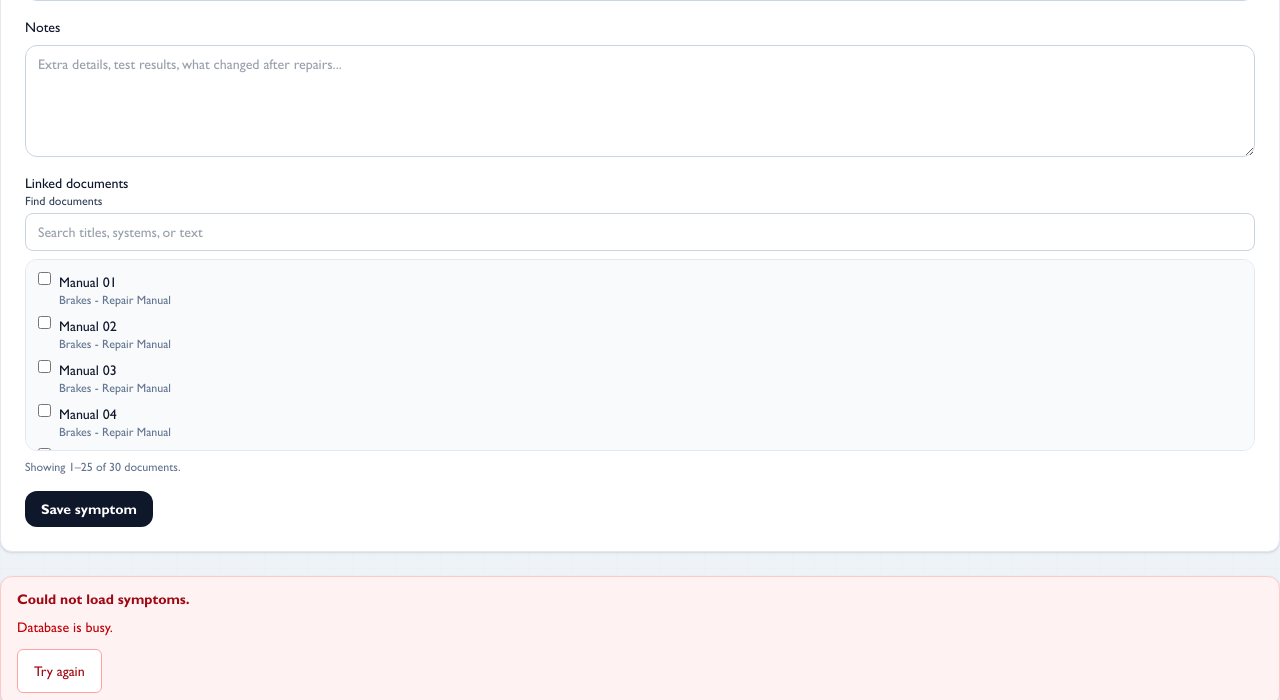
a failed first load says so and Try again recovers
The image size is (1280, 700).
(page scrolled)
Expected: the text "Could not load symptoms." is shown, 17,591 -> 190,607
Expected: the text "Database is busy. Try again" is shown, 17,619 -> 113,693
Click the button "Try again": (59, 671) 17,649 -> 102,693
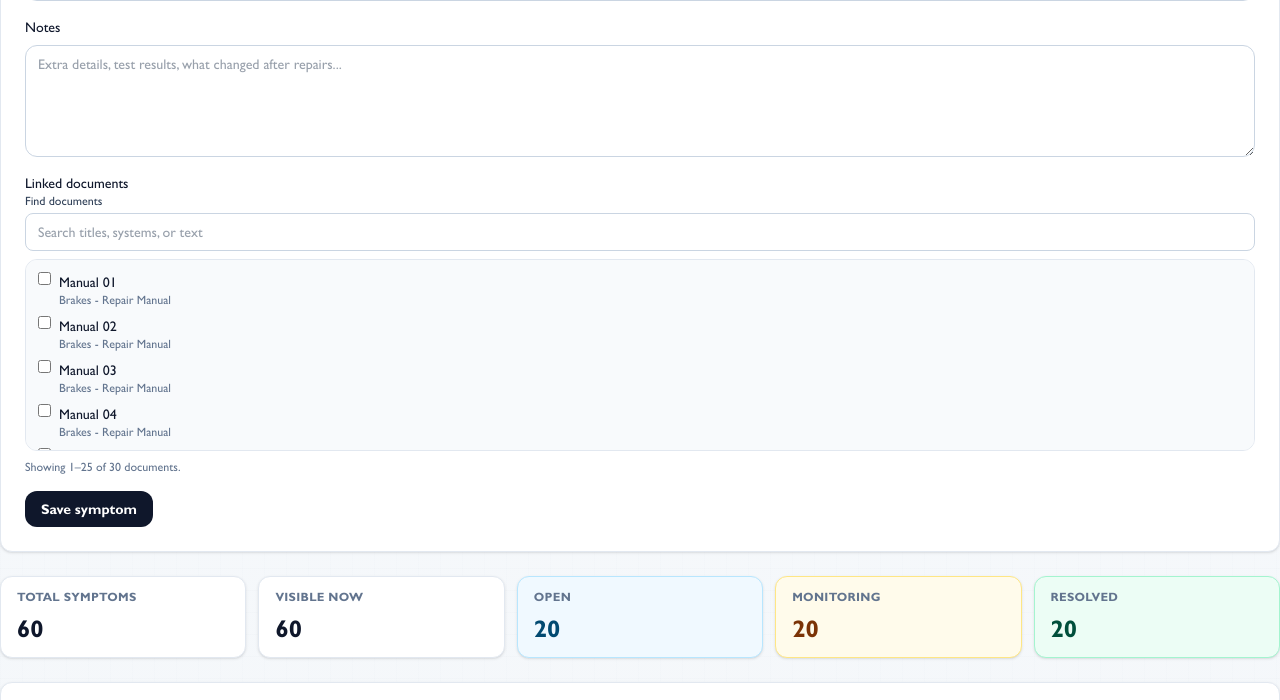
Expected: the text "Could not load symptoms." is gone
